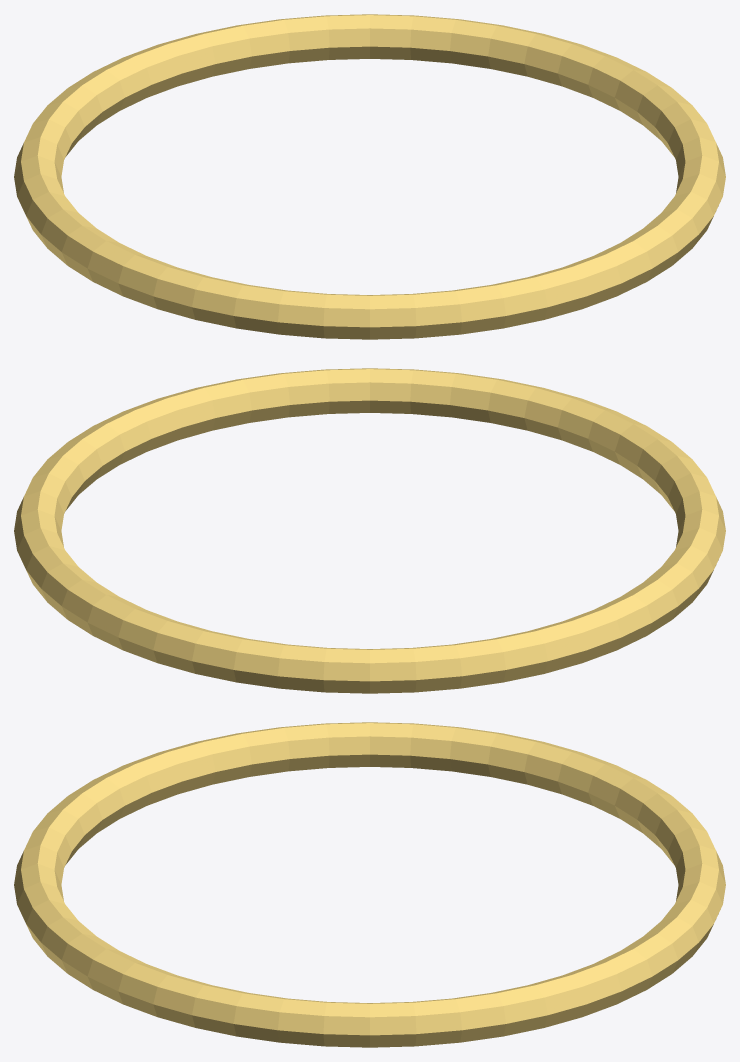
The model's file is SM_Heaven_Halo.glb.
3 renders of one model, top to bottom at view 1: azimuth 30°, elevation 25°; view 2: azimuth 150°, elevation 25°; view 3: azimuth 270°, elevation 25°, orthographic.
Parts seen in each view (by area): view 1: SM_Heaven_Halo; view 2: SM_Heaven_Halo; view 3: SM_Heaven_Halo.
Boxes of the visible parts, x1,y1,x2,y2 form: SM_Heaven_Halo: (14,14,725,339); SM_Heaven_Halo: (14,368,725,693); SM_Heaven_Halo: (14,722,725,1047).
Bounding box in the file's own units: 3 × 0.2 × 3.
